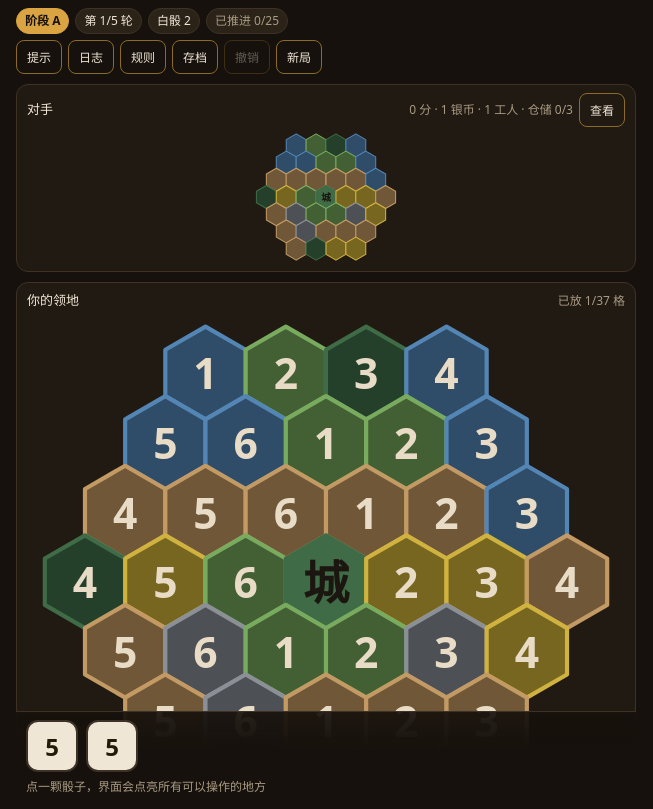
Test case: 真实点击能推动对局 › 「提示」会给出一个当前合法行动的说明
Check: the number of buttons with class "die" is 2, box [26,720,78,772]; [86,720,138,772]
Click the button "提示" at (39, 57), box [16,40,62,74]
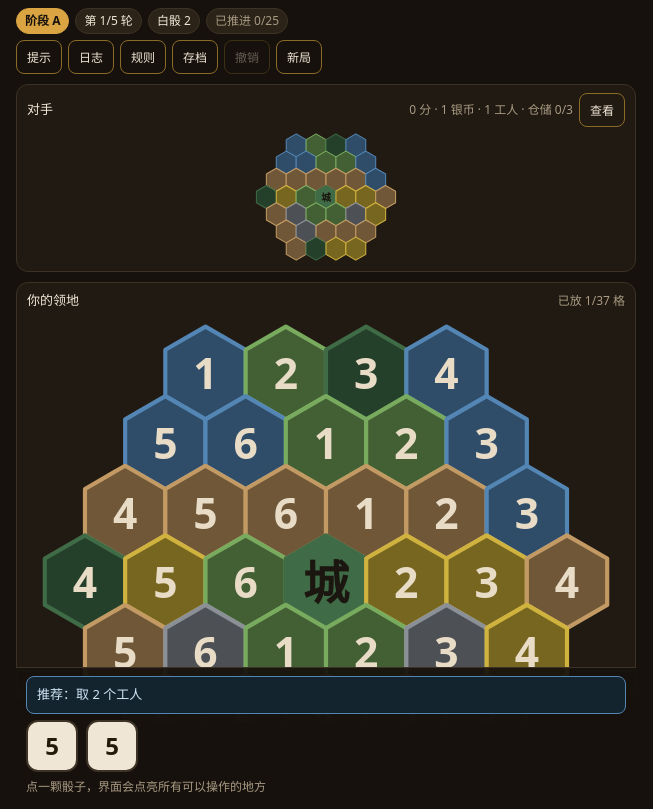
Check: the text with class "banner--hint" shows "推荐：", box [26,676,626,714]
